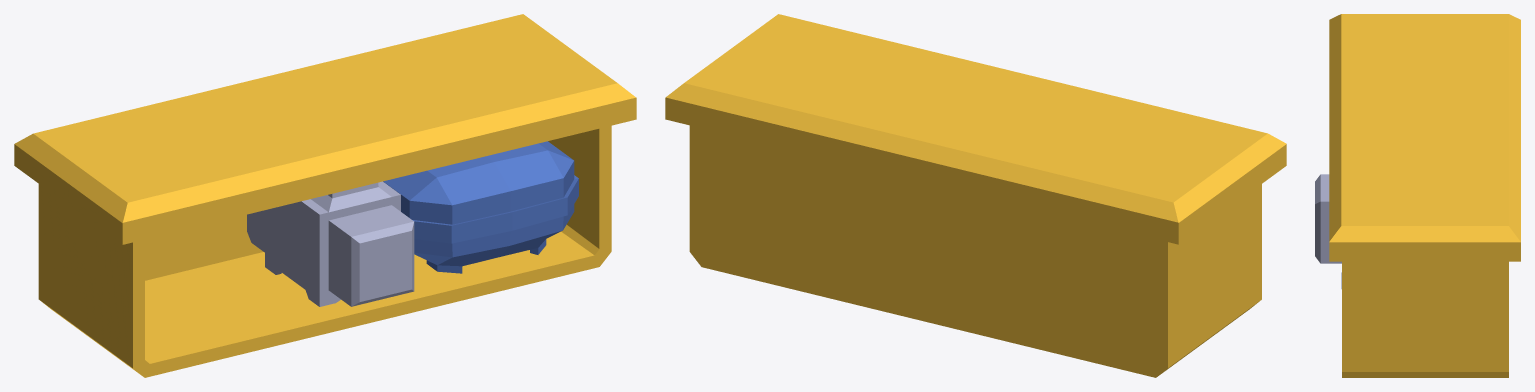
The model's file is PaintStationWip.fbx.
The picture shows the model from 3 angles, left to right: view 1: azimuth 30°, elevation 25°; view 2: azimuth 150°, elevation 25°; view 3: azimuth 270°, elevation 25°; orthographic projection. The views are drawn at different scales.
Parts seen in each view (by area): view 1: Cube.009, paintCrate, Cube.008, Cube.010; view 2: paintCrate, Cube.009; view 3: Cube.009, paintCrate, Cube.010.
Boxes of the visible parts, left/top/right/bottom form: Cube.009: left=14, top=14, right=636, bottom=244; paintCrate: left=38, top=125, right=611, bottom=377; Cube.008: left=383, top=141, right=578, bottom=273; Cube.010: left=247, top=181, right=414, bottom=306; paintCrate: left=689, top=125, right=1261, bottom=377; Cube.009: left=665, top=14, right=1286, bottom=244; Cube.009: left=1329, top=14, right=1520, bottom=261; paintCrate: left=1342, top=261, right=1508, bottom=377; Cube.010: left=1315, top=174, right=1341, bottom=263.
Size of the model in its own units: 247 by 82.66 by 96.68.
